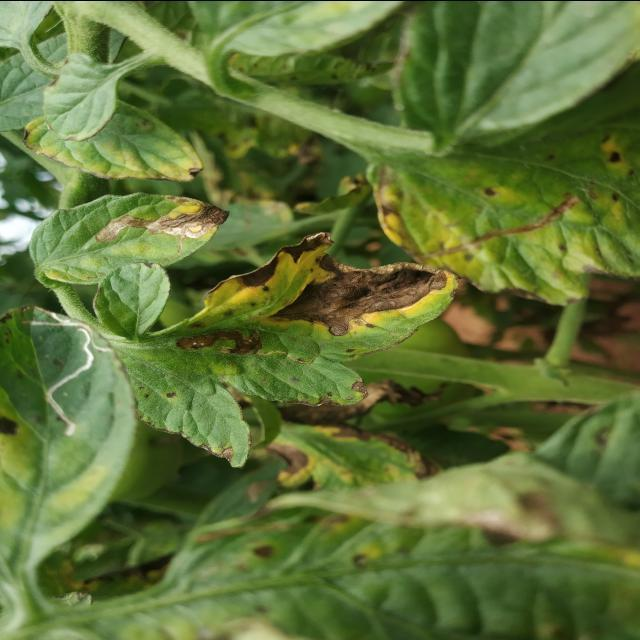Tomato mosaic virus leaf: (118, 229, 461, 469), (31, 188, 230, 282)
